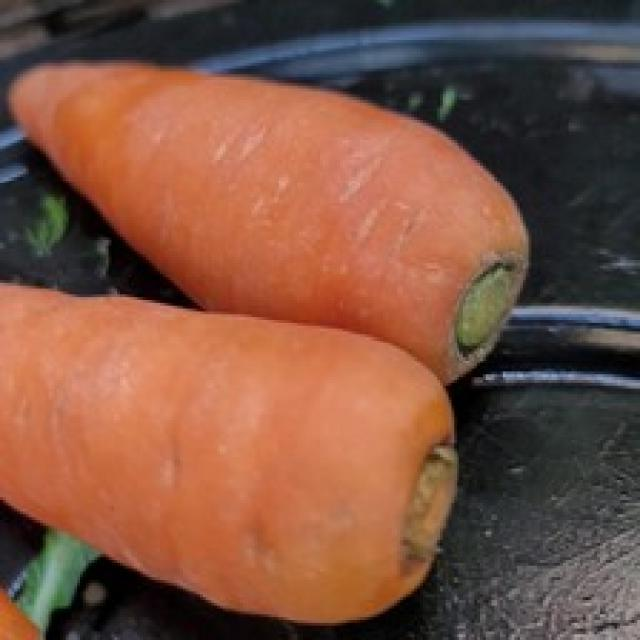carrot: (1, 52, 547, 373), (1, 297, 465, 623)
